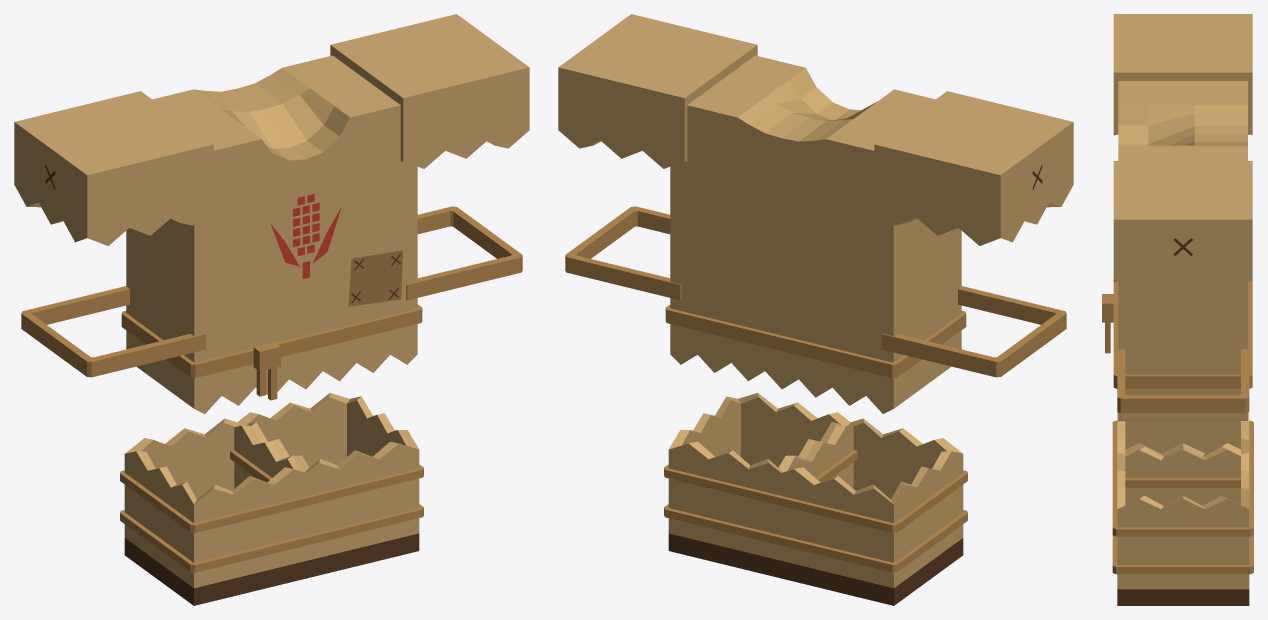
The model's file is w1_armor_patchwork.fbx.
3 views of the same model, side by side, from view 1: azimuth 30°, elevation 25°; view 2: azimuth 150°, elevation 25°; view 3: azimuth 270°, elevation 25° (orthographic). The views are drawn at different scales.
Visible parts, largest first — view 1: PatchworkVest.Tunic, PatchworkVest.SackR, PatchworkVest.ShinR, PatchworkVest.SackL, PatchworkVest.ShinL, PatchworkVest.RopeR, PatchworkVest.Rope, PatchworkVest.ShinRopeR, PatchworkVest.RopeL, PatchworkVest.ShoeR, PatchworkVest.ShinRopeL, PatchworkVest.Patch (+2 smaller); view 2: PatchworkVest.Tunic, PatchworkVest.SackR, PatchworkVest.SackL, PatchworkVest.ShinR, PatchworkVest.ShinL, PatchworkVest.RopeR, PatchworkVest.Rope, PatchworkVest.ShinRopeR, PatchworkVest.RopeL, PatchworkVest.ShoeR, PatchworkVest.ShinRopeL, PatchworkVest.ShoeL; view 3: PatchworkVest.Tunic, PatchworkVest.SackL, PatchworkVest.ShinL, PatchworkVest.SackR, PatchworkVest.ShinR, PatchworkVest.ShinRopeL, PatchworkVest.RopeL, PatchworkVest.Rope, PatchworkVest.ShoeL, PatchworkVest.ShinRopeR.
Boxes of the visible parts, <box> form: PatchworkVest.Tunic: <box>126,55,417,413</box>; PatchworkVest.SackR: <box>14,91,213,245</box>; PatchworkVest.ShinR: <box>124,418,313,588</box>; PatchworkVest.SackL: <box>330,14,529,168</box>; PatchworkVest.ShinL: <box>234,393,419,562</box>; PatchworkVest.RopeR: <box>21,286,205,377</box>; PatchworkVest.Rope: <box>121,304,422,400</box>; PatchworkVest.ShinRopeR: <box>120,470,317,572</box>; PatchworkVest.RopeL: <box>406,206,522,300</box>; PatchworkVest.ShoeR: <box>124,538,313,605</box>; PatchworkVest.ShinRopeL: <box>230,450,423,542</box>; PatchworkVest.Patch: <box>348,250,402,306</box>; PatchworkVest.Tunic: <box>670,55,961,413</box>; PatchworkVest.SackR: <box>874,91,1073,245</box>; PatchworkVest.SackL: <box>558,14,757,168</box>; PatchworkVest.ShinR: <box>774,418,963,588</box>; PatchworkVest.ShinL: <box>668,393,853,562</box>; PatchworkVest.RopeR: <box>882,286,1066,377</box>; PatchworkVest.Rope: <box>665,304,966,377</box>; PatchworkVest.ShinRopeR: <box>770,470,967,572</box>; PatchworkVest.RopeL: <box>565,206,681,300</box>; PatchworkVest.ShoeR: <box>774,538,963,605</box>; PatchworkVest.ShinRopeL: <box>664,450,857,546</box>; PatchworkVest.ShoeL: <box>668,533,788,580</box>; PatchworkVest.Tunic: <box>1118,81,1247,420</box>; PatchworkVest.SackL: <box>1113,161,1252,291</box>; PatchworkVest.ShinL: <box>1117,443,1249,589</box>; PatchworkVest.SackR: <box>1113,14,1252,135</box>; PatchworkVest.ShinR: <box>1117,412,1249,505</box>; PatchworkVest.ShinRopeL: <box>1112,469,1253,574</box>; PatchworkVest.RopeL: <box>1117,344,1249,413</box>; PatchworkVest.Rope: <box>1102,281,1252,388</box>; PatchworkVest.ShoeL: <box>1117,589,1249,605</box>; PatchworkVest.ShinRopeR: <box>1112,420,1253,487</box>.
Size of the model in its own units: 4.21 by 4.16 by 1.31.
